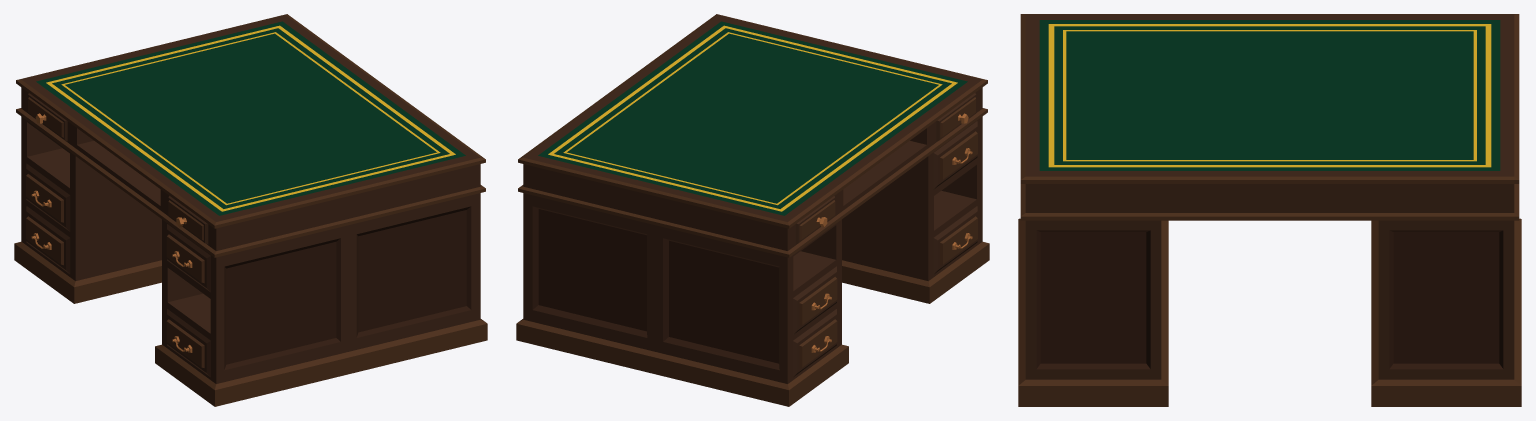
The model's file is desk_kneehole_base.fbx.
3 views of the same model, side by side, from view 1: azimuth 30°, elevation 25°; view 2: azimuth 150°, elevation 25°; view 3: azimuth 270°, elevation 25° (orthographic). The views are drawn at different scales.
Visible parts, largest first — view 1: desk_kneehole_base; view 2: desk_kneehole_base; view 3: desk_kneehole_base.
Boxes of the visible parts, x1,y1,x2,y2 form: desk_kneehole_base: (14,14,487,406); desk_kneehole_base: (516,14,989,406); desk_kneehole_base: (1018,14,1521,406).
Bounding box in the file's own units: 149 × 92.63 × 185.
